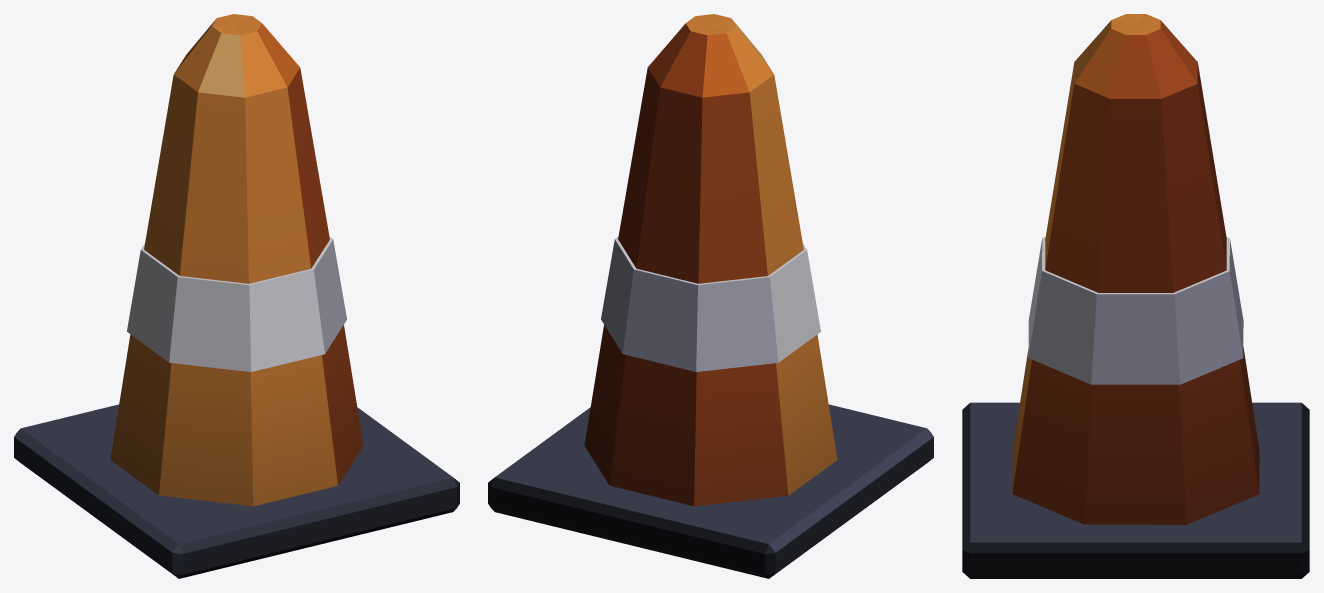
Rendered from traffic_cone.glb.
3 renders of one model, left to right at view 1: azimuth 30°, elevation 25°; view 2: azimuth 150°, elevation 25°; view 3: azimuth 270°, elevation 25°, orthographic. The views are drawn at different scales.
Visible parts, largest first — view 1: traffic_cone; view 2: traffic_cone; view 3: traffic_cone.
Part boxes in pixels (box(x1,y1,x2,y2)): traffic_cone: box(14, 14, 459, 578); traffic_cone: box(488, 14, 933, 578); traffic_cone: box(962, 14, 1309, 578).
Size of the model in its own units: 0.26 by 0.4 by 0.26.
